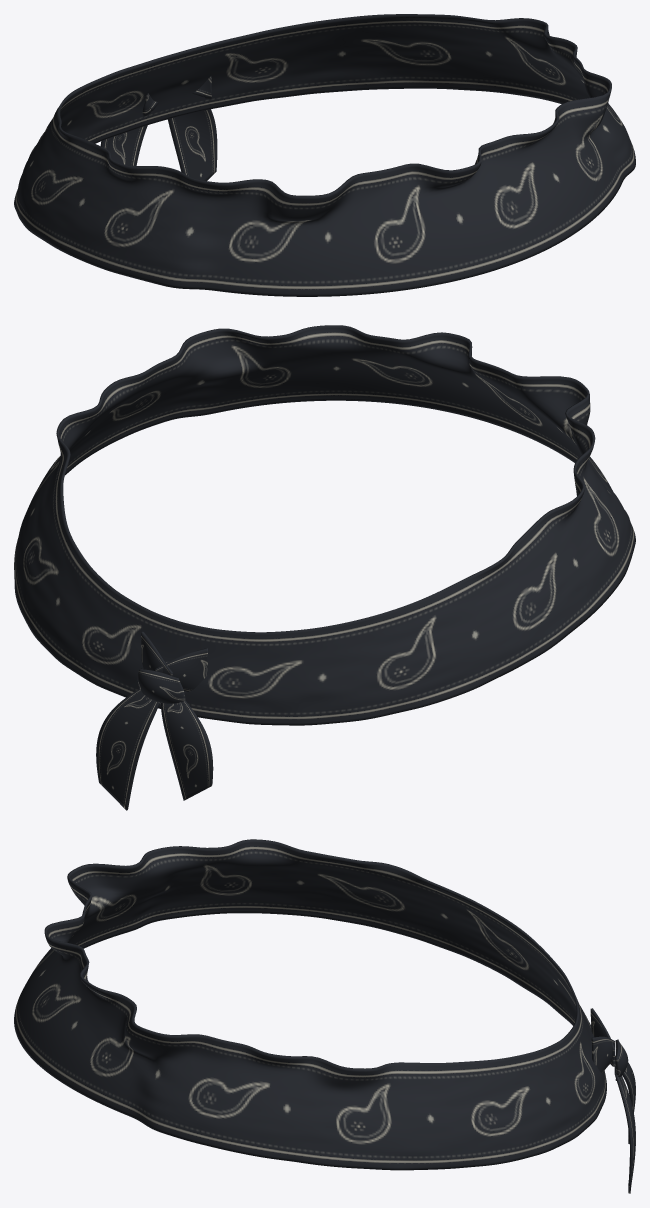
The model's file is Masculine-curly-top-bandana.glb.
3 renders of one model, top to bottom at view 1: azimuth 30°, elevation 25°; view 2: azimuth 150°, elevation 25°; view 3: azimuth 270°, elevation 25°, orthographic. The views are drawn at different scales.
Parts seen in each view (by area): view 1: Bandana / folded wrap, Bandana / hemmed tail 1, Bandana / hemmed tail -1; view 2: Bandana / folded wrap, Bandana / hemmed tail 1, Bandana / hemmed tail -1, Bandana / rounded knot fold, Bandana / gathered fold -1, Bandana / gathered fold 1; view 3: Bandana / folded wrap, Bandana / hemmed tail 1, Bandana / gathered fold 1.
Part boxes in pixels (x1=…): Bandana / folded wrap: x1=14, y1=14, x2=635, y2=296; Bandana / hemmed tail 1: x1=167, y1=109, x2=217, y2=180; Bandana / hemmed tail -1: x1=100, y1=125, x2=147, y2=165; Bandana / folded wrap: x1=14, y1=325, x2=635, y2=725; Bandana / hemmed tail 1: x1=96, y1=689, x2=159, y2=810; Bandana / hemmed tail -1: x1=160, y1=700, x2=213, y2=800; Bandana / rounded knot fold: x1=137, y1=668, x2=185, y2=704; Bandana / gathered fold -1: x1=155, y1=648, x2=207, y2=692; Bandana / gathered fold 1: x1=141, y1=631, x2=172, y2=676; Bandana / folded wrap: x1=14, y1=839, x2=606, y2=1170; Bandana / hemmed tail 1: x1=614, y1=1064, x2=635, y2=1193; Bandana / gathered fold 1: x1=591, y1=1036, x2=615, y2=1073.
Size of the model in its own units: 0.7349 by 0.3402 by 0.7674.
Materials: 1 (1 with a texture image).
